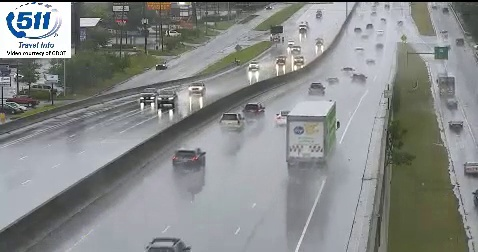car: (173, 149, 205, 171), (218, 113, 243, 131), (242, 102, 265, 120), (276, 110, 294, 124), (308, 82, 325, 96)
small-truck: (287, 101, 336, 166)
